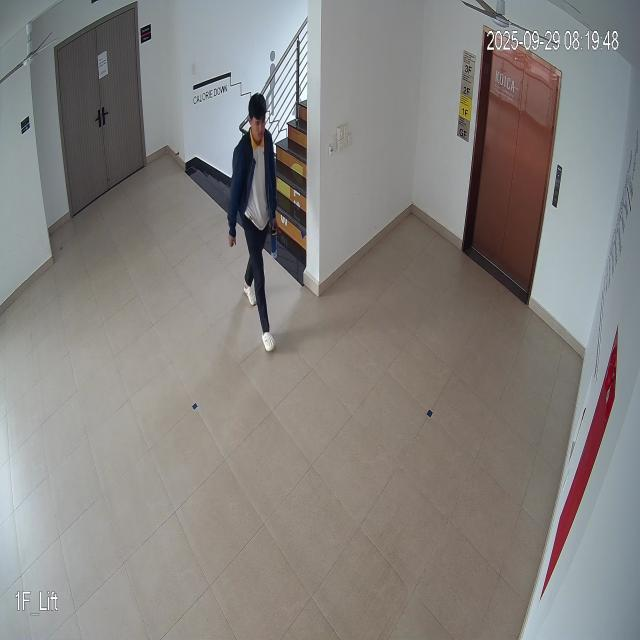face: (243, 89, 271, 150)
